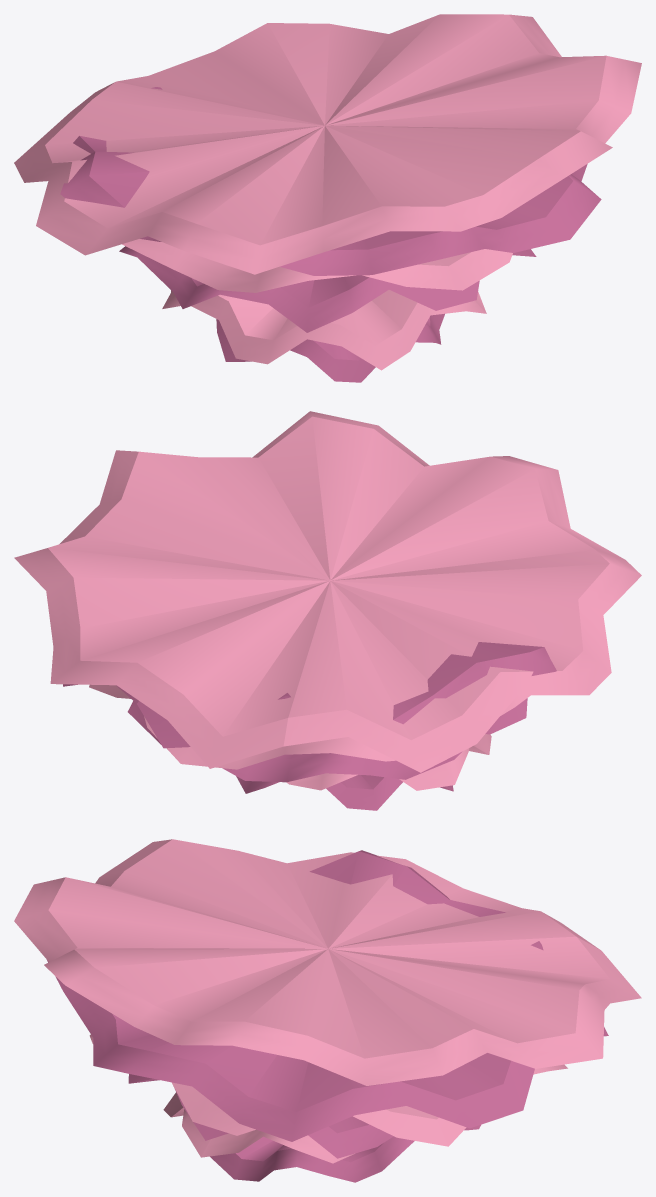
The model's file is coral-lettuce.glb.
The picture shows the model from 3 angles, top to bottom: view 1: azimuth 30°, elevation 25°; view 2: azimuth 150°, elevation 25°; view 3: azimuth 270°, elevation 25°; orthographic projection. The views are drawn at different scales.
Size of the model in its own units: 2.37 by 1.06 by 2.4.
